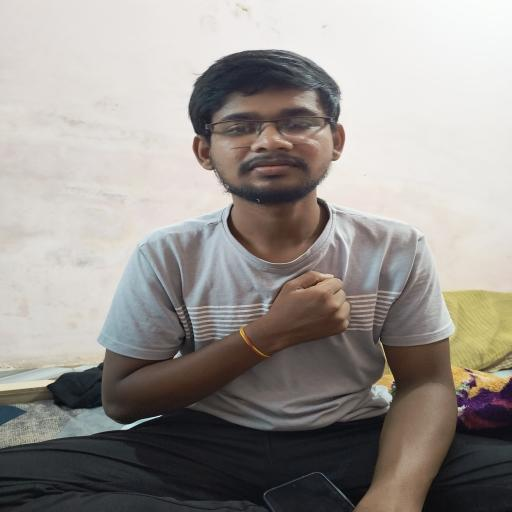Understood: (98, 215, 396, 429)
